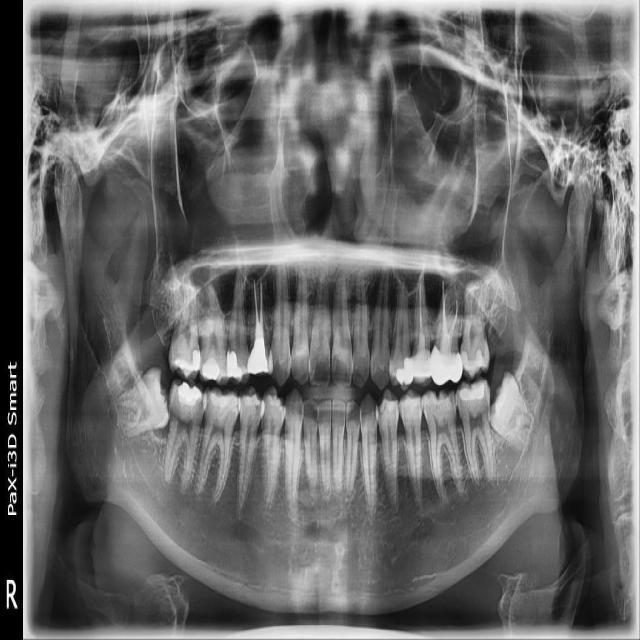52: (164, 377, 211, 421), (198, 385, 244, 428), (426, 346, 466, 389), (452, 375, 492, 416), (193, 349, 234, 387), (420, 387, 458, 425), (457, 343, 494, 381), (236, 385, 267, 430), (385, 351, 416, 394), (259, 385, 288, 429), (168, 347, 201, 385), (223, 348, 252, 386), (409, 349, 434, 389), (248, 345, 273, 376)
73: (433, 272, 463, 355), (248, 272, 274, 351), (412, 278, 430, 354), (608, 585, 612, 600)
BioHorizons Implant: (460, 275, 493, 381)
Biomet 3i Implant: (471, 367, 546, 461)
Blue Sky Bio Implant: (454, 374, 498, 487)
Caries: (168, 266, 201, 387)
Implant: (162, 377, 208, 492)
Keystone Dental Implant: (109, 363, 176, 439)
